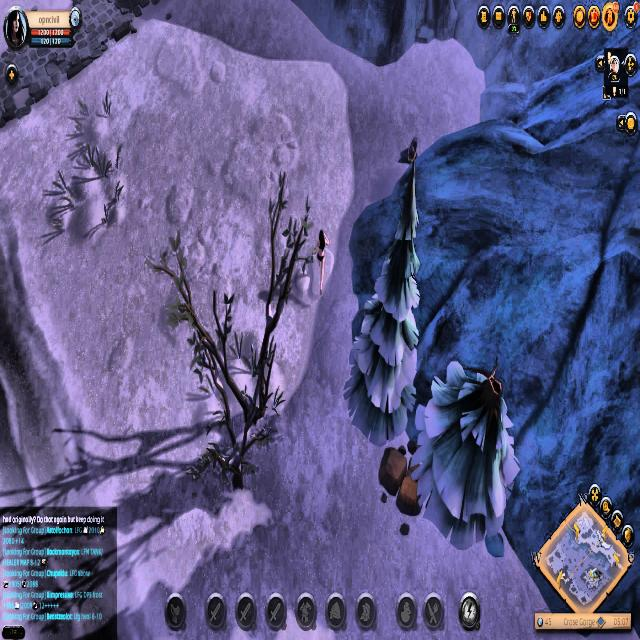copper_ore: (399, 128, 420, 168)
limestone: (377, 434, 426, 520)
